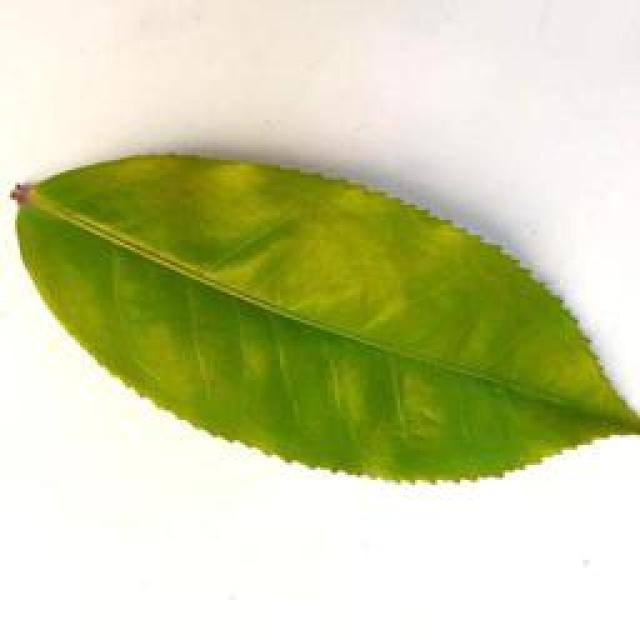Healthy: (0, 142, 640, 493)
